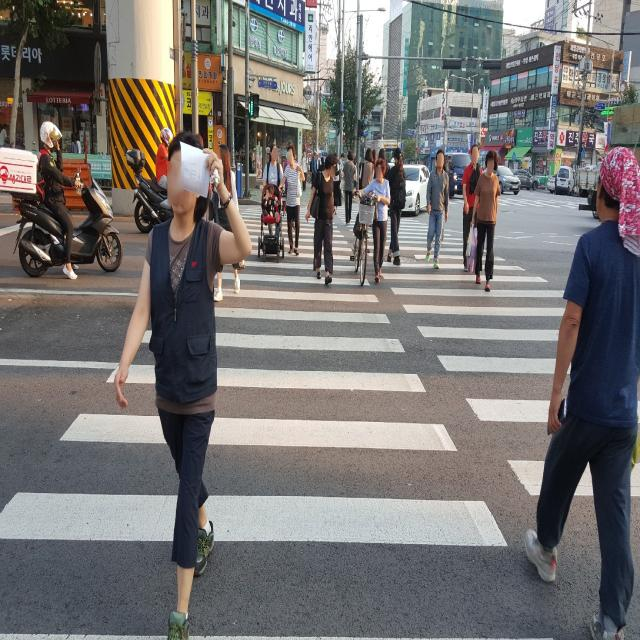초록불: (250, 92, 260, 118)
횡단보도: (0, 200, 640, 640)
